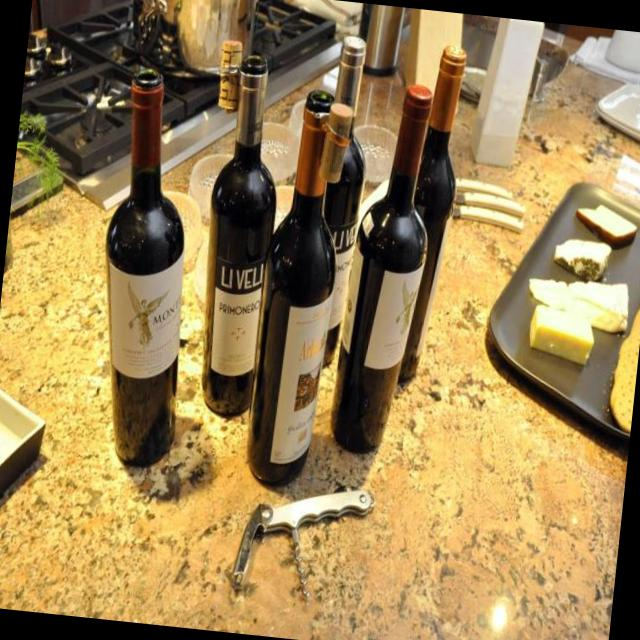Knife: (232, 491, 374, 598)
